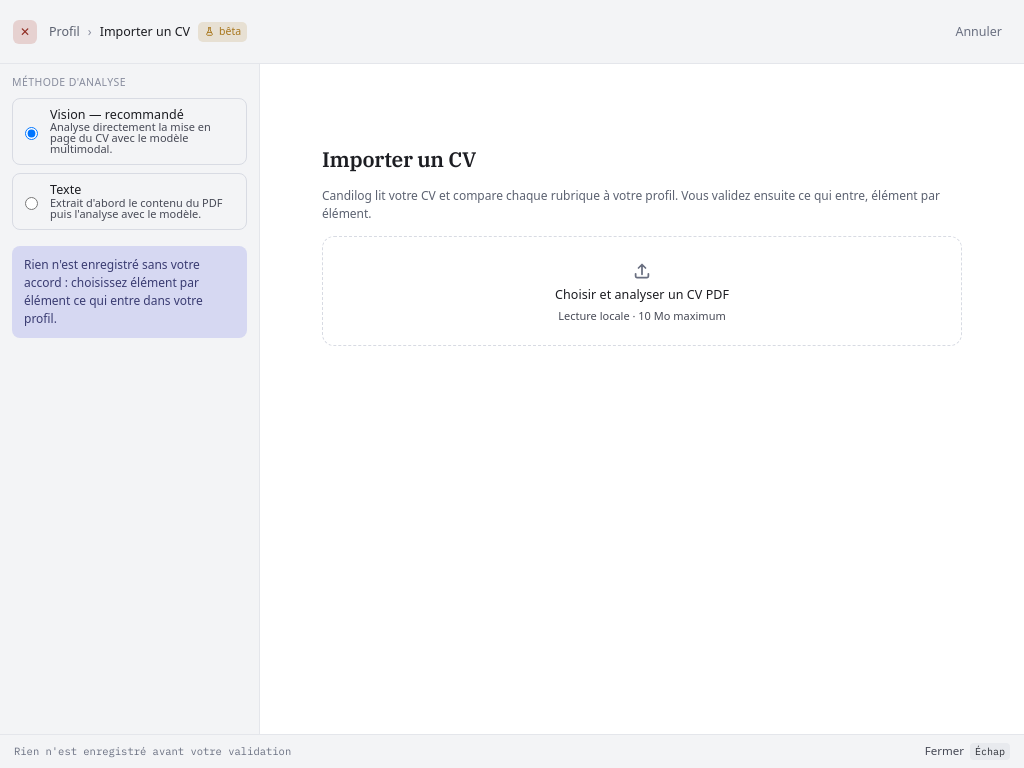
it: ProfileImportModal › n'annonce pas l'analyse tant que le fichier n'est pas choisi
This screenshot has width=1024, height=768.
Click the button "Choisir et analyser un CV PDF Lecture locale · 10 Mo maximum" at (642, 291), box x1=322 y1=236 x2=962 y2=346
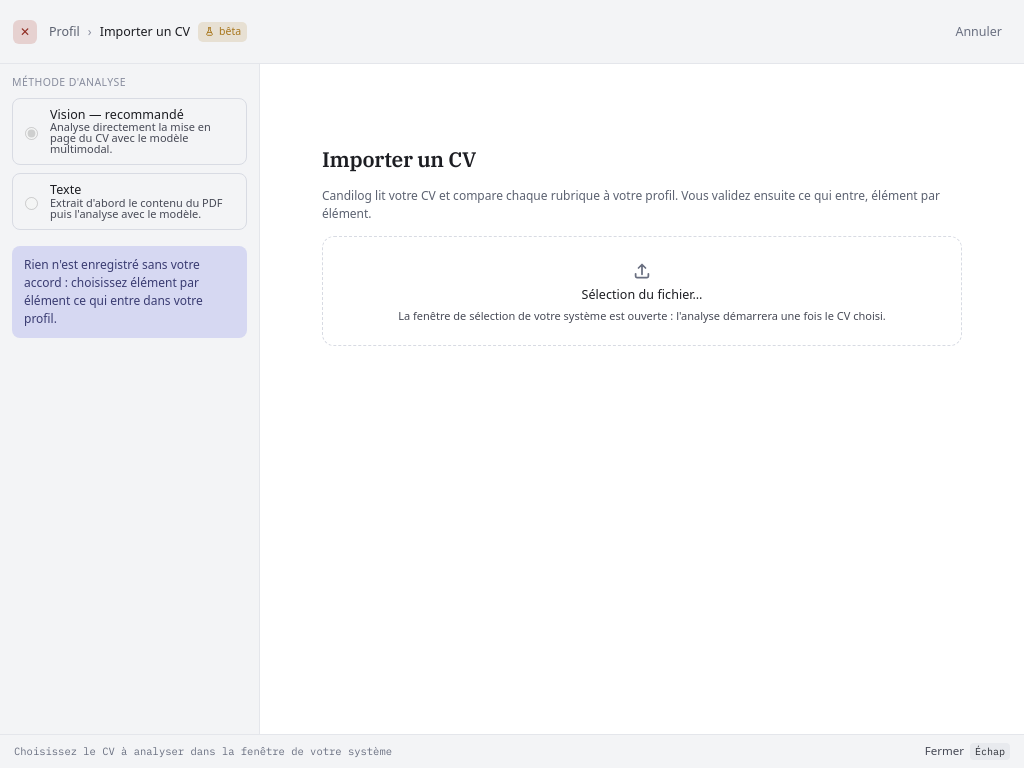
Expected: the text "fenêtre de sélection" is shown, x1=398 y1=308 x2=886 y2=322
